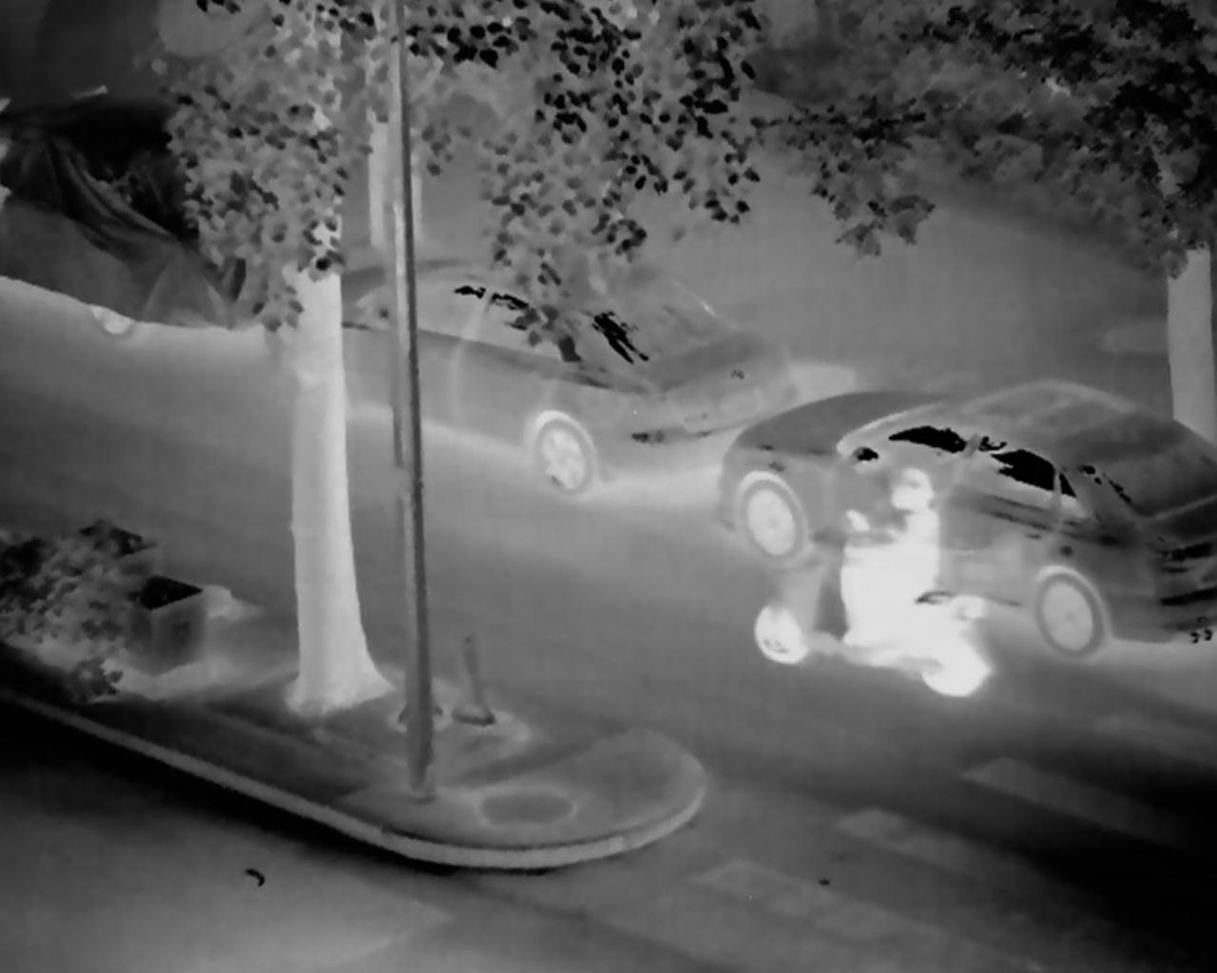person: (822, 467, 950, 659)
